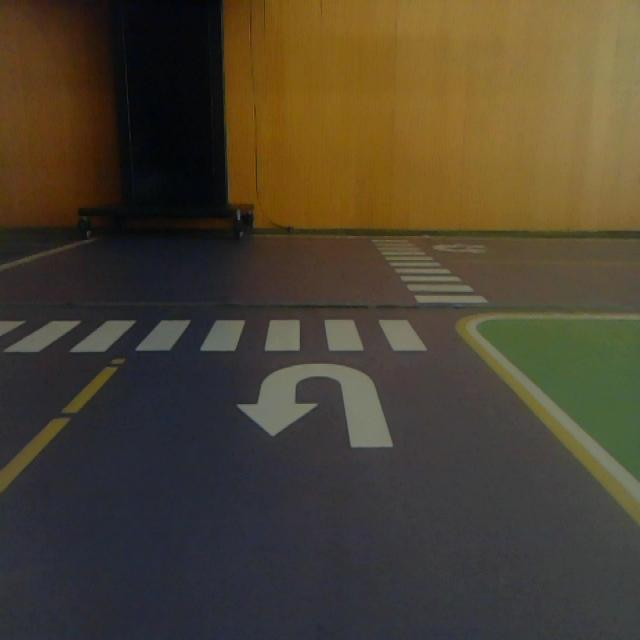left_lane: (1, 369, 118, 492)
right_lane: (457, 323, 640, 526)
